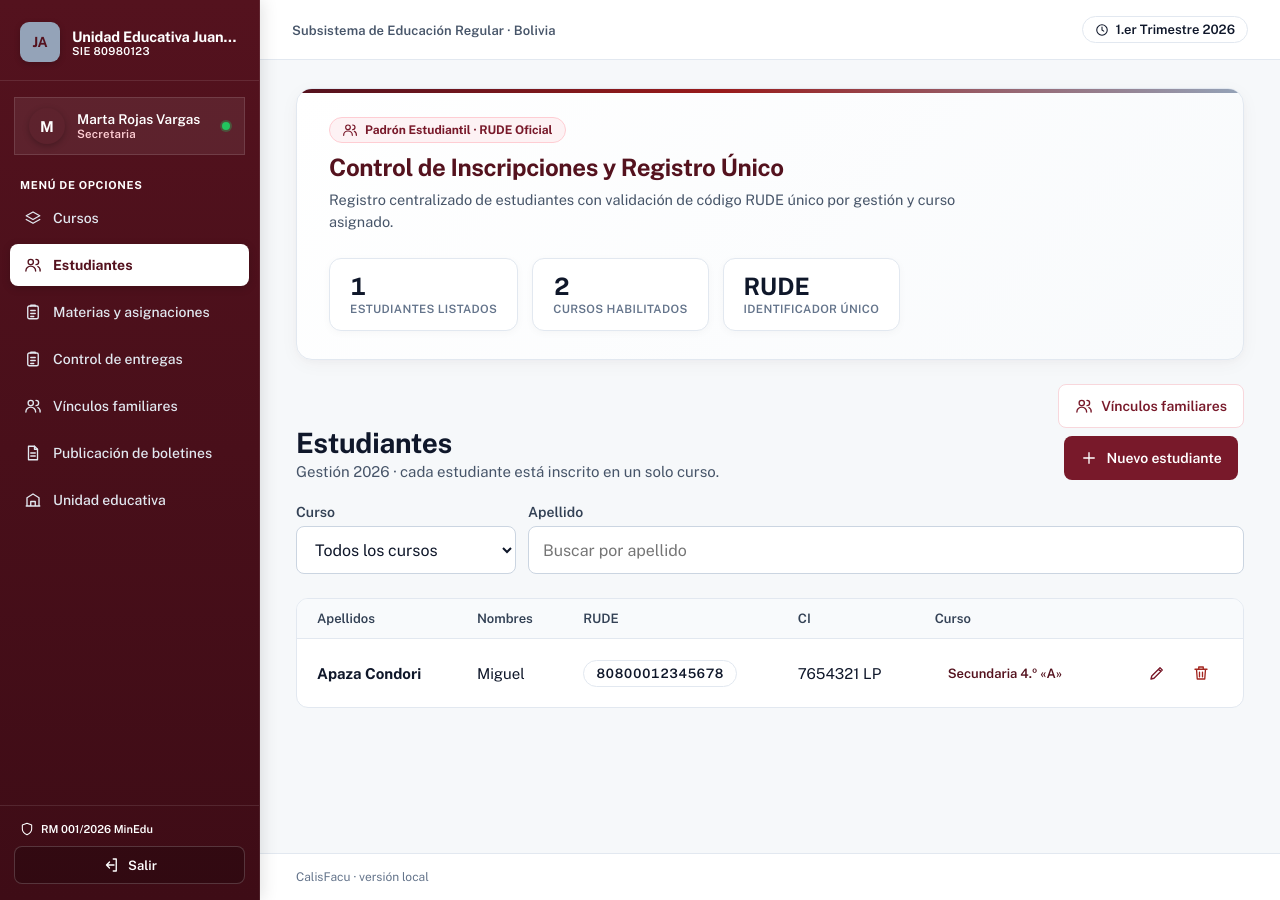
Test: Estudiantes (US-18, criterio 3) › debe mostrar la advertencia de impacto de borrado seguro con técnica de burbuja
The image size is (1280, 900).
Step 1. Click the button named "Eliminar a Apaza Condori, Miguel" → (1201, 673), box [1179, 651, 1223, 695]
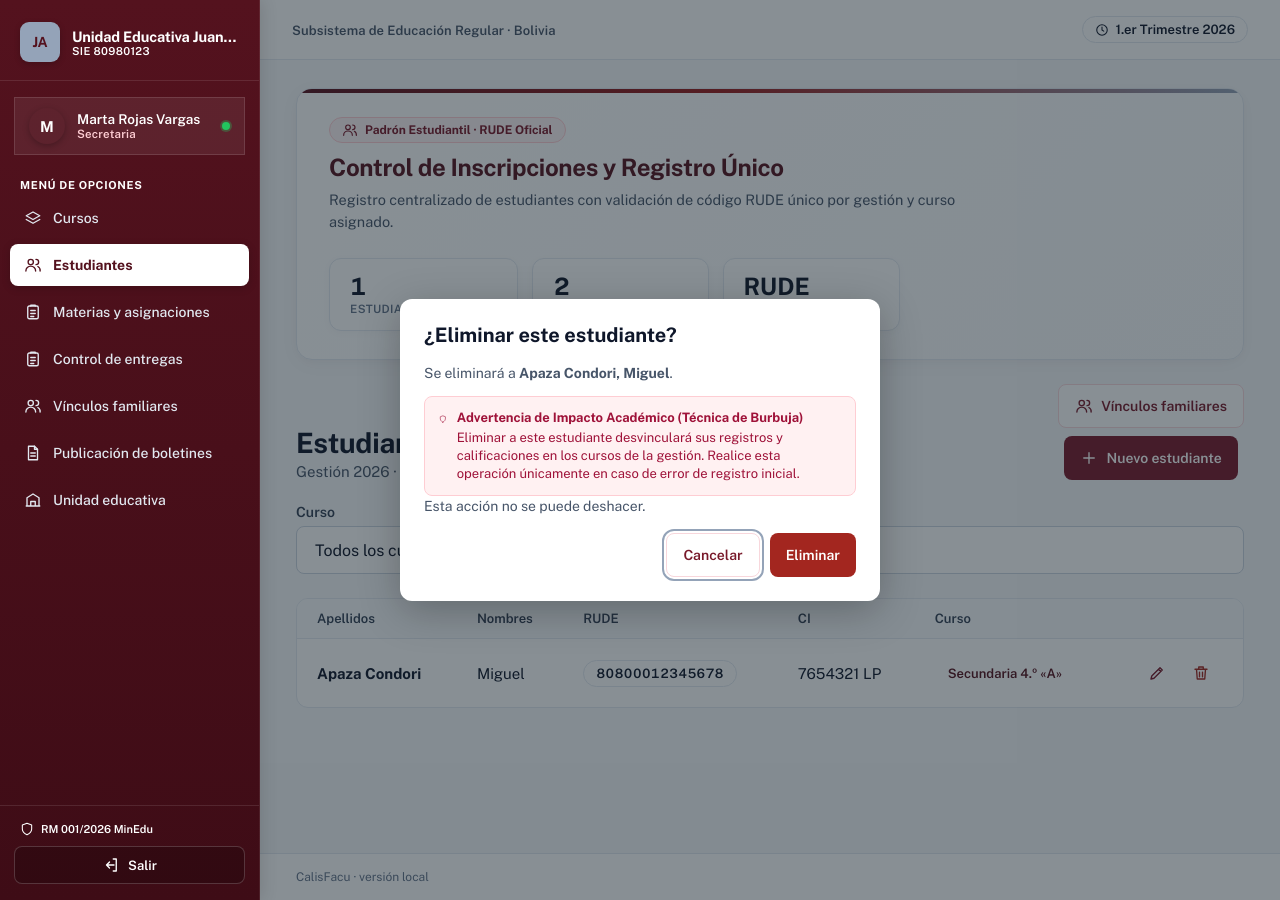
Expected: the dialog "¿Eliminar este estudiante?" shows "Advertencia de Impacto Académico (Técnica de Burbuja)", [457, 410, 803, 425]
